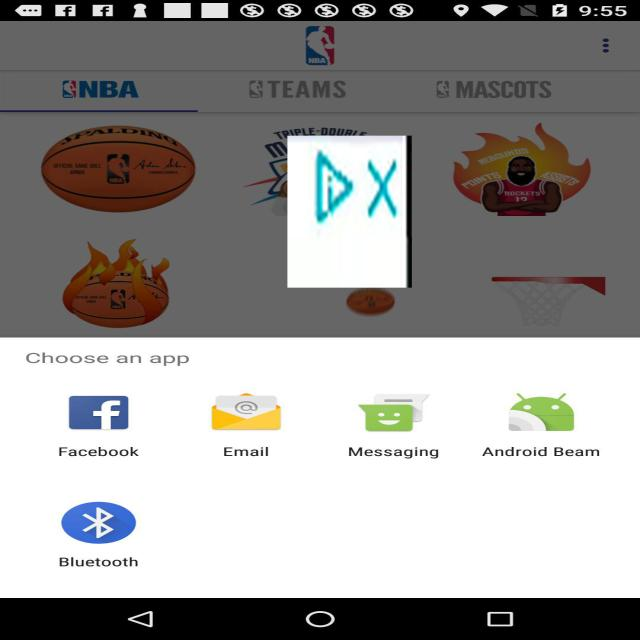sneaking: (287, 136, 412, 288)
